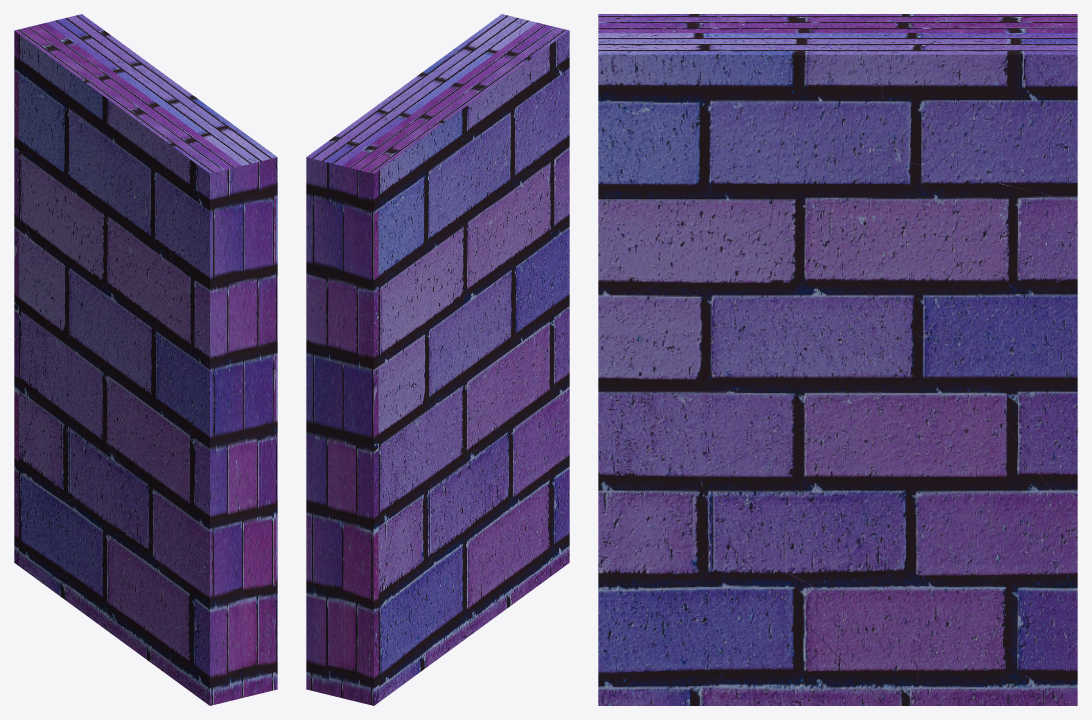
File: WallBreak.fbx
The picture shows the model from 3 angles, left to right: view 1: azimuth 30°, elevation 25°; view 2: azimuth 150°, elevation 25°; view 3: azimuth 270°, elevation 25°; orthographic projection. The views are drawn at different scales.
Parts seen in each view (by area): view 1: Cube_cell.015, Cube_cell.017, Cube_cell.011, Cube_cell.008, Cube_cell.016, Cube_cell.006, Cube_cell.003, Cube_cell.013, Cube_cell.007, Cube_cell.001, Cube_cell.012, Cube_cell.009 (+1 smaller); view 2: Cube_cell.003, Cube_cell.015, Cube_cell.009, Cube_cell.001, Cube_cell.008, Cube_cell.013, Cube_cell.006, Cube_cell.007, Cube_cell.017, Cube_cell.016, Cube_cell.011, Cube_cell.012 (+1 smaller); view 3: Cube_cell.012, Cube_cell.015, Cube_cell.017, Cube_cell.013, Cube_cell.003, Cube_cell.005, Cube_cell.001, Cube_cell.008, Cube_cell.011, Cube_cell.009, Cube_cell.006, Cube_cell.016 (+1 smaller).
Part boxes in pixels (<box>): Cube_cell.015: <box>66,263,277,475</box>; Cube_cell.017: <box>164,99,277,369</box>; Cube_cell.011: <box>168,483,277,705</box>; Cube_cell.008: <box>80,74,198,296</box>; Cube_cell.016: <box>127,418,277,581</box>; Cube_cell.006: <box>62,484,170,676</box>; Cube_cell.003: <box>14,14,162,166</box>; Cube_cell.013: <box>14,149,127,323</box>; Cube_cell.007: <box>14,317,79,485</box>; Cube_cell.001: <box>14,438,67,600</box>; Cube_cell.012: <box>56,395,127,502</box>; Cube_cell.009: <box>14,198,61,345</box>; Cube_cell.003: <box>306,97,446,292</box>; Cube_cell.015: <box>426,207,569,452</box>; Cube_cell.009: <box>306,329,421,528</box>; Cube_cell.001: <box>306,533,426,705</box>; Cube_cell.008: <box>390,65,533,239</box>; Cube_cell.013: <box>306,214,487,390</box>; Cube_cell.006: <box>422,463,530,666</box>; Cube_cell.007: <box>306,390,438,580</box>; Cube_cell.017: <box>423,14,569,217</box>; Cube_cell.016: <box>486,275,569,499</box>; Cube_cell.011: <box>527,409,569,591</box>; Cube_cell.012: <box>415,442,487,574</box>; Cube_cell.012: <box>700,361,1062,640</box>; Cube_cell.015: <box>598,223,948,476</box>; Cube_cell.017: <box>598,16,792,314</box>; Cube_cell.013: <box>790,158,1077,363</box>; Cube_cell.003: <box>876,14,1077,201</box>; Cube_cell.005: <box>618,536,884,705</box>; Cube_cell.001: <box>914,514,1077,705</box>; Cube_cell.008: <box>714,14,899,223</box>; Cube_cell.011: <box>598,453,714,705</box>; Cube_cell.009: <box>964,273,1077,509</box>; Cube_cell.006: <box>722,539,921,705</box>; Cube_cell.016: <box>598,404,716,536</box>.
Size of the model in its own units: 80 by 600 by 400.
